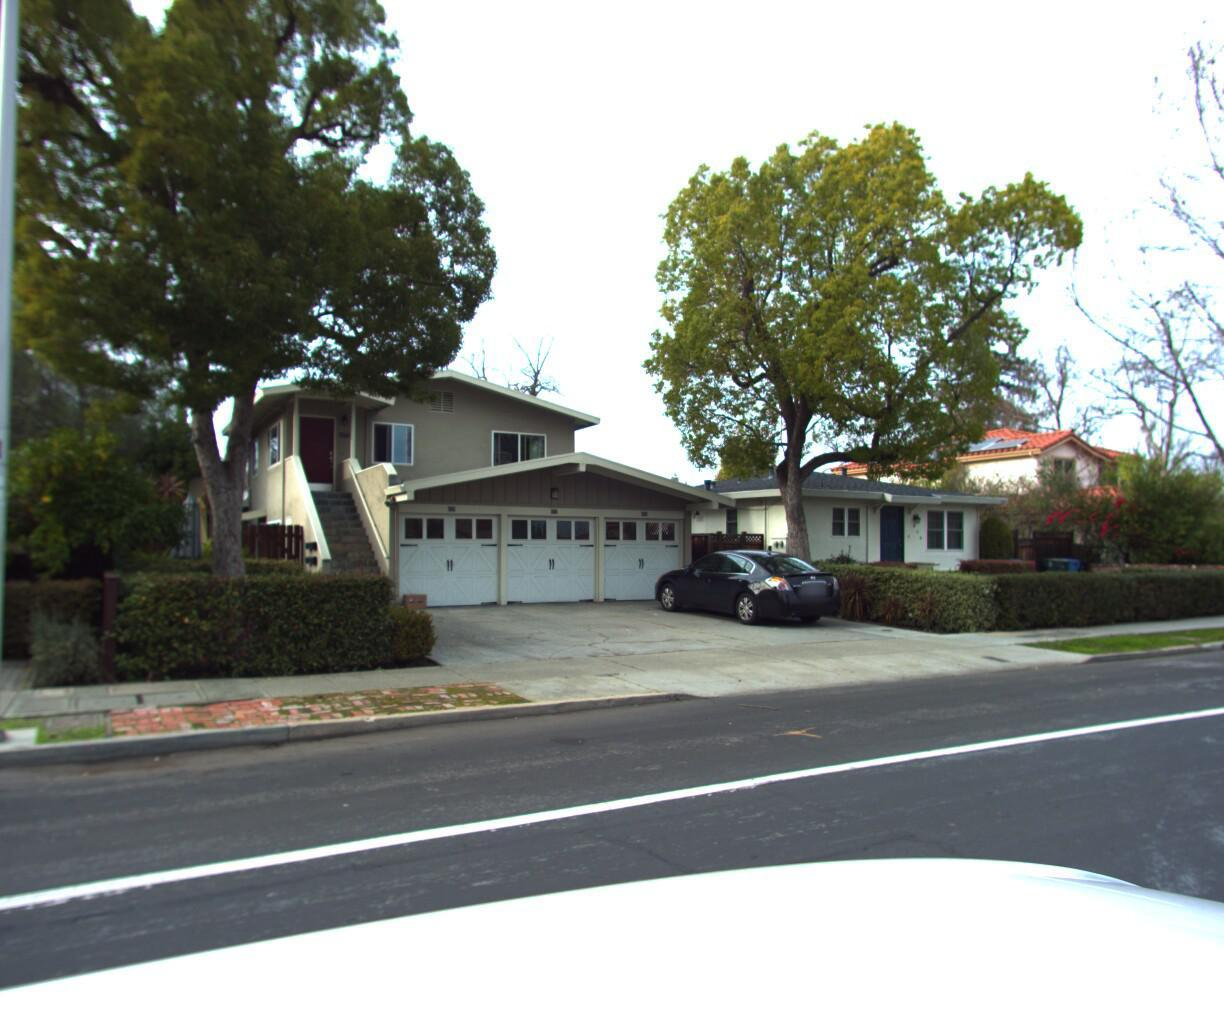car: (650, 545, 857, 626)
